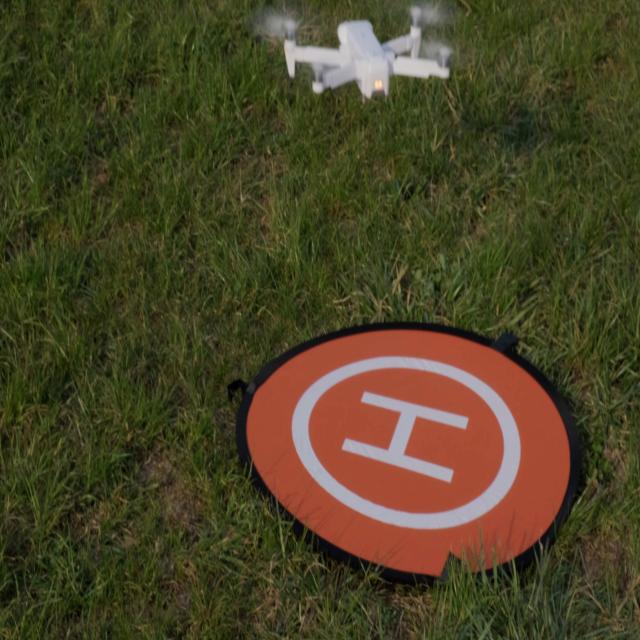drone: (283, 6, 452, 103)
